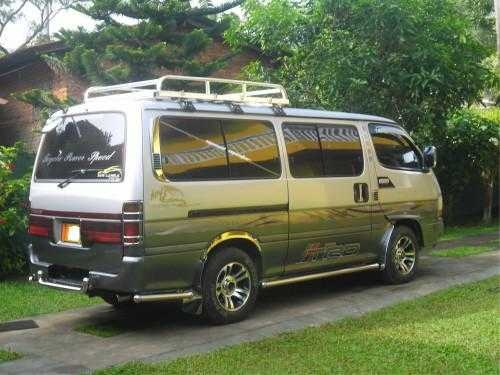van: (25, 74, 445, 324)
